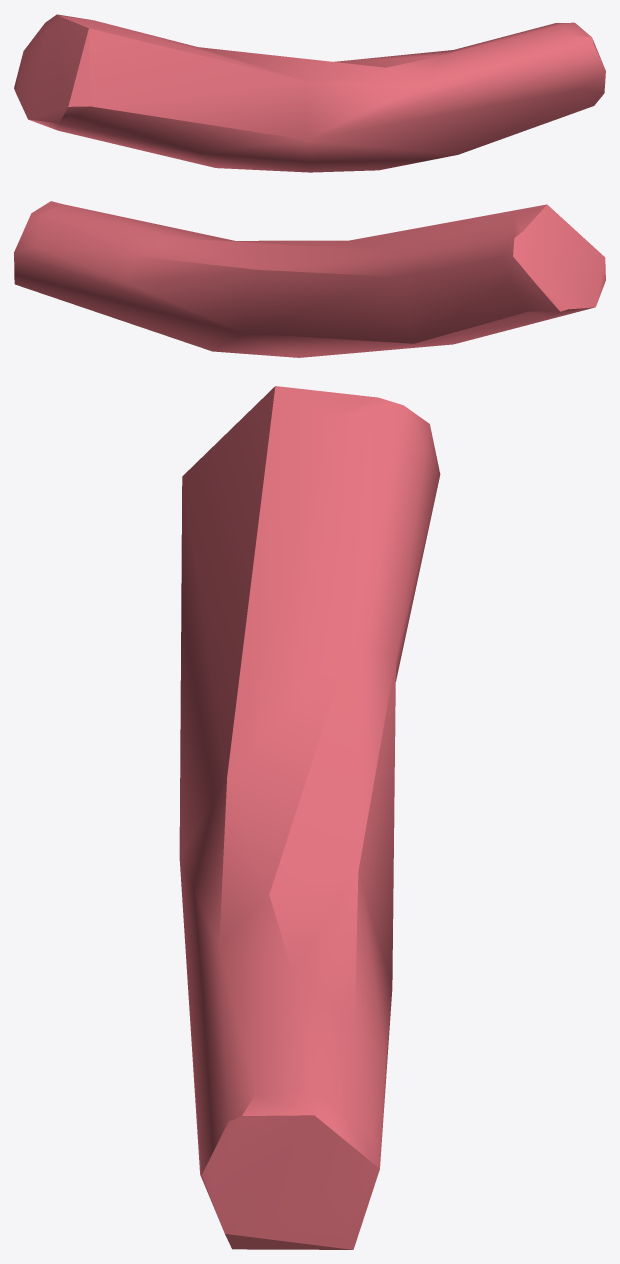
The model's file is fma68683_fj2976.glb.
3 views of the same model, one above another, from view 1: azimuth 30°, elevation 25°; view 2: azimuth 150°, elevation 25°; view 3: azimuth 270°, elevation 25° (orthographic). The views are drawn at different scales.
Parts seen in each view (by area): view 1: FMA68683_FJ2976; view 2: FMA68683_FJ2976; view 3: FMA68683_FJ2976.
Boxes of the visible parts, x1,y1,x2,y2 form: FMA68683_FJ2976: (14,14,605,172); FMA68683_FJ2976: (14,201,605,357); FMA68683_FJ2976: (179,386,440,1249).
Size of the model in its own units: 0.0127 by 0.00462 by 0.00258.
